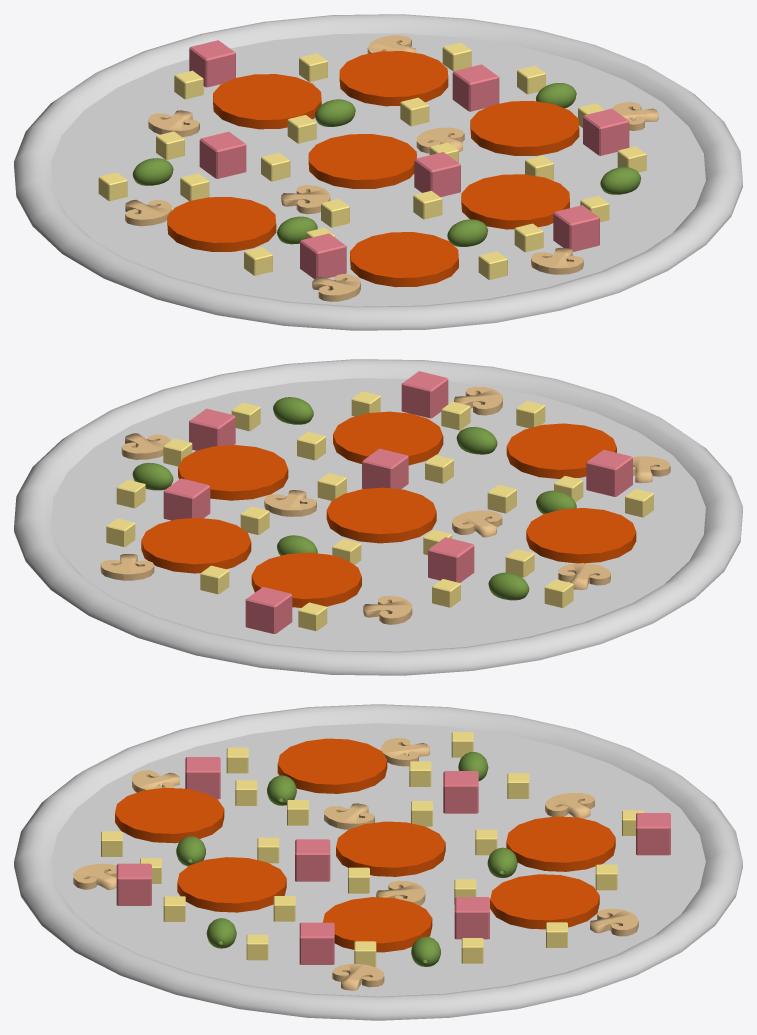
File: 9_complete pizzaa 1.fbx
The picture shows the model from 3 angles, top to bottom: view 1: azimuth 30°, elevation 25°; view 2: azimuth 150°, elevation 25°; view 3: azimuth 270°, elevation 25°; orthographic projection.
Parts seen in each view (by area): view 1: Cylinder, the peperoni pizza, motzerella pizza, ham pizza, mushroom pizza, olive.003; view 2: Cylinder, the peperoni pizza, motzerella pizza, ham pizza, mushroom pizza, olive.003; view 3: Cylinder, the peperoni pizza, motzerella pizza, ham pizza, mushroom pizza, olive.003.
Part boxes in pixels (x1,y1,x2,y2): Cylinder: (14, 14, 742, 330); the peperoni pizza: (167, 51, 579, 287); motzerella pizza: (98, 42, 646, 279); ham pizza: (189, 40, 629, 278); mushroom pizza: (125, 35, 658, 301); olive.003: (132, 83, 640, 246); Cylinder: (14, 359, 742, 675); the peperoni pizza: (141, 411, 636, 607); motzerella pizza: (106, 391, 653, 631); ham pizza: (163, 371, 632, 633); mushroom pizza: (100, 386, 670, 624); olive.003: (132, 397, 576, 600); Cylinder: (14, 704, 742, 1020); the peperoni pizza: (115, 738, 615, 952); motzerella pizza: (101, 732, 643, 967); ham pizza: (116, 757, 670, 964); mushroom pizza: (73, 737, 638, 990); olive.003: (176, 752, 517, 966).
Bounding box in the file's own units: 463 × 463 × 23.38.
